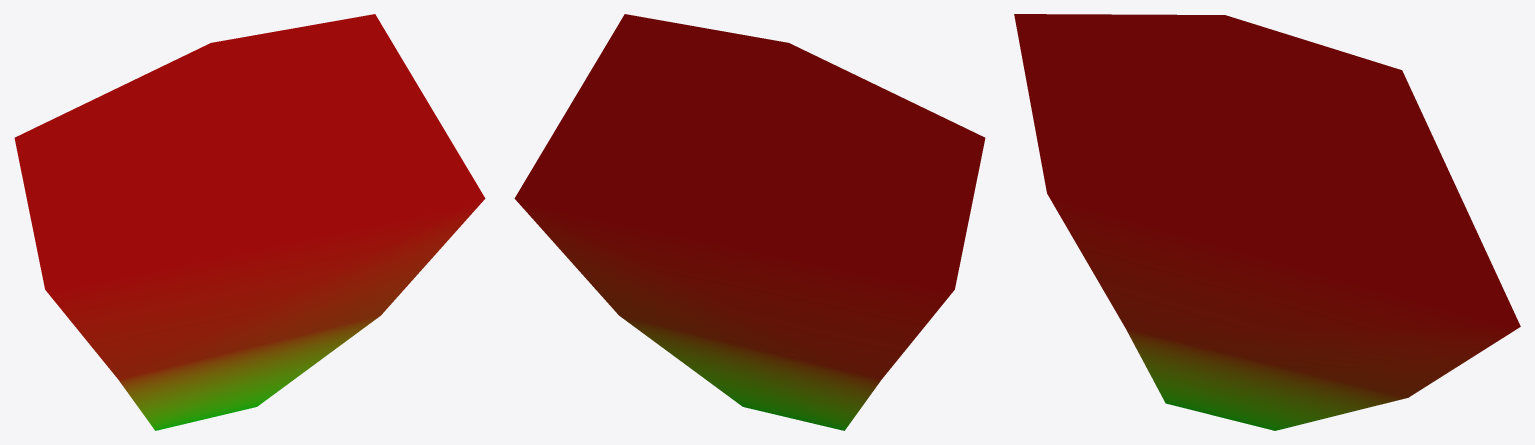
The model's file is Wild Grass_LOD4_Var3_vlkhcbxia.fbx.
3 renders of one model, left to right at view 1: azimuth 30°, elevation 25°; view 2: azimuth 150°, elevation 25°; view 3: azimuth 330°, elevation 25°, orthographic. The views are drawn at different scales.
Parts seen in each view (by area): view 1: _xrvk_Var3_LOD4; view 2: _xrvk_Var3_LOD4; view 3: _xrvk_Var3_LOD4.
Boxes of the visible parts, x1,y1,x2,y2 form: _xrvk_Var3_LOD4: [14, 14, 485, 430]; _xrvk_Var3_LOD4: [514, 14, 985, 430]; _xrvk_Var3_LOD4: [1014, 14, 1520, 430].
Size of the model in its own units: 36.74 by 27.97 by 1.22e-06.
